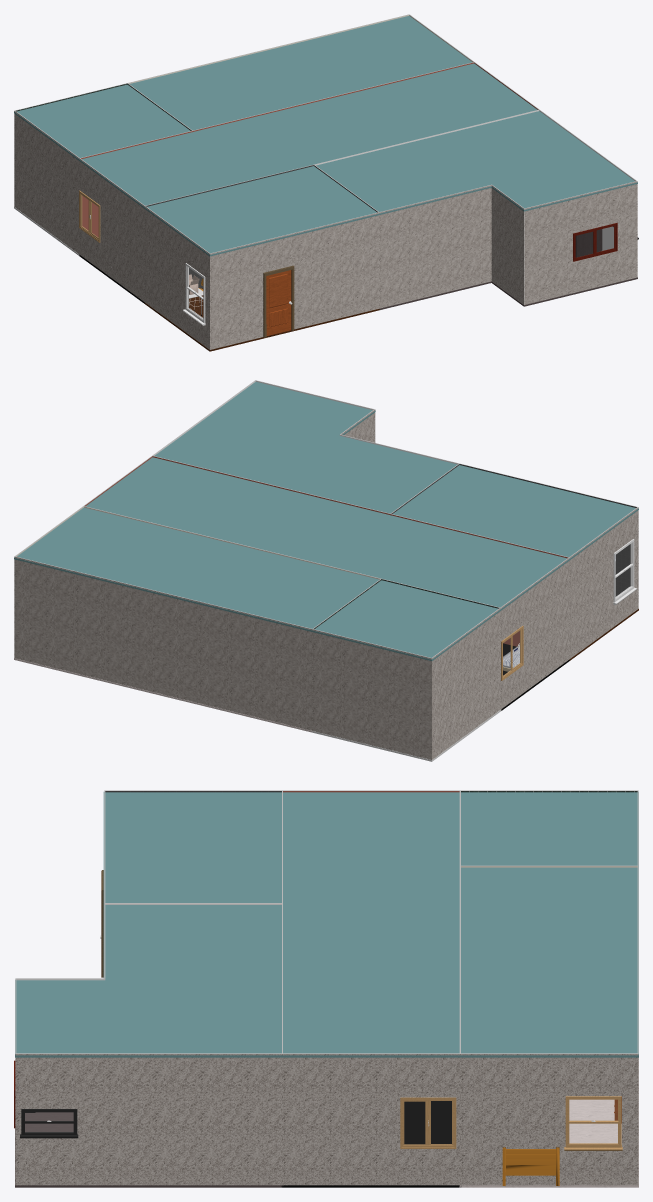
The model's file is ProcTHOR-Train-13.glb.
3 views of the same model, one above another, from view 1: azimuth 30°, elevation 25°; view 2: azimuth 150°, elevation 25°; view 3: azimuth 270°, elevation 25° (orthographic). The views are drawn at different scales.
Parts seen in each view (by area): view 1: Ceiling#room|6|c, Ceiling#room|8|c, Ceiling#room|4|c, WallInside#wall|exterior|7.74|11.61|13.54|11.61, Ceiling#room|9|c, WallInside#wall|exterior|3.87|11.61|7.74|11.61, WallInside#wall|exterior|0.00|13.54|3.87|13.54, Ceiling#room|5|c, WallInside#wall|exterior|13.54|0.00|13.54|3.87, WallInside#wall|exterior|13.54|3.87|13.54|7.74, WallInside#wall|exterior|13.54|7.74|13.54|11.61, WallInside#wall|exterior|3.87|11.61|3.87|13.54 (+10 smaller); view 2: WallInside#wall|exterior|0.00|0.00|9.67|0.00, Ceiling#room|6|c, Ceiling#room|4|c, Ceiling#room|8|c, WallInside#wall|exterior|9.67|0.00|13.54|0.00, Ceiling#room|9|c, Ceiling#room|5|c, WallInside#wall|exterior|13.54|0.00|13.54|3.87, WallInside#wall|exterior|13.54|3.87|13.54|7.74, WallInside#wall|exterior|13.54|7.74|13.54|11.61, WallInside#wall|9|7.74|11.61|13.54|11.61, Floor#room|4|f (+3 smaller); view 3: Ceiling#room|6|c, Ceiling#room|8|c, Ceiling#room|4|c, WallInside#wall|exterior|0.00|7.74|0.00|13.54, WallInside#wall|exterior|0.00|3.87|0.00|7.74, Ceiling#room|9|c, WallInside#wall|exterior|0.00|0.00|0.00|3.87, Ceiling#room|5|c, Floor#room|4|f, Floor#room|6|f, Floor#room|8|f, Bed_2 (+3 smaller).
Part boxes in pixels (x1,y1,x2,y2): Ceiling#room|6|c: (79,63,537,208); Ceiling#room|8|c: (316,111,637,214); Ceiling#room|4|c: (128,16,472,130); WallInside#wall|exterior|7.74|11.61|13.54|11.61: (210,212,379,349); Ceiling#room|9|c: (144,166,379,256); WallInside#wall|exterior|3.87|11.61|7.74|11.61: (379,185,491,308); WallInside#wall|exterior|0.00|13.54|3.87|13.54: (524,181,637,304); Ceiling#room|5|c: (14,84,190,160); WallInside#wall|exterior|13.54|0.00|13.54|3.87: (14,110,79,253); WallInside#wall|exterior|13.54|3.87|13.54|7.74: (79,158,144,301); WallInside#wall|exterior|13.54|7.74|13.54|11.61: (144,206,209,349); WallInside#wall|exterior|3.87|11.61|3.87|13.54: (491,185,524,304); WallInside#wall|exterior|0.00|0.00|9.67|0.00: (14,556,312,730); Ceiling#room|6|c: (86,457,570,610); Ceiling#room|4|c: (14,507,379,631); Ceiling#room|8|c: (155,382,457,513); WallInside#wall|exterior|9.67|0.00|13.54|0.00: (312,629,431,759); Ceiling#room|9|c: (392,465,638,559); Ceiling#room|5|c: (312,580,501,661); WallInside#wall|exterior|13.54|0.00|13.54|3.87: (432,608,500,759); WallInside#wall|exterior|13.54|3.87|13.54|7.74: (500,557,569,709); WallInside#wall|exterior|13.54|7.74|13.54|11.61: (569,507,638,659); WallInside#wall|9|7.74|11.61|13.54|11.61: (459,464,637,596); Floor#room|4|f: (14,658,312,732); Ceiling#room|6|c: (281,792,461,1057); Ceiling#room|8|c: (15,904,283,1057); Ceiling#room|4|c: (459,867,638,1057); WallInside#wall|exterior|0.00|7.74|0.00|13.54: (15,1053,282,1185); WallInside#wall|exterior|0.00|3.87|0.00|7.74: (282,1053,460,1185); Ceiling#room|9|c: (103,792,283,904); WallInside#wall|exterior|0.00|0.00|0.00|3.87: (460,1053,638,1185); Ceiling#room|5|c: (459,792,638,867); Floor#room|4|f: (459,1058,638,1187); Floor#room|6|f: (281,1101,461,1187); Floor#room|8|f: (15,1112,283,1187); Bed_2: (502,1147,559,1185).
Size of what is drawn, in the model's own units: 13.78 by 3.21 by 13.6.
Materials: 321 (135 with a texture image).
